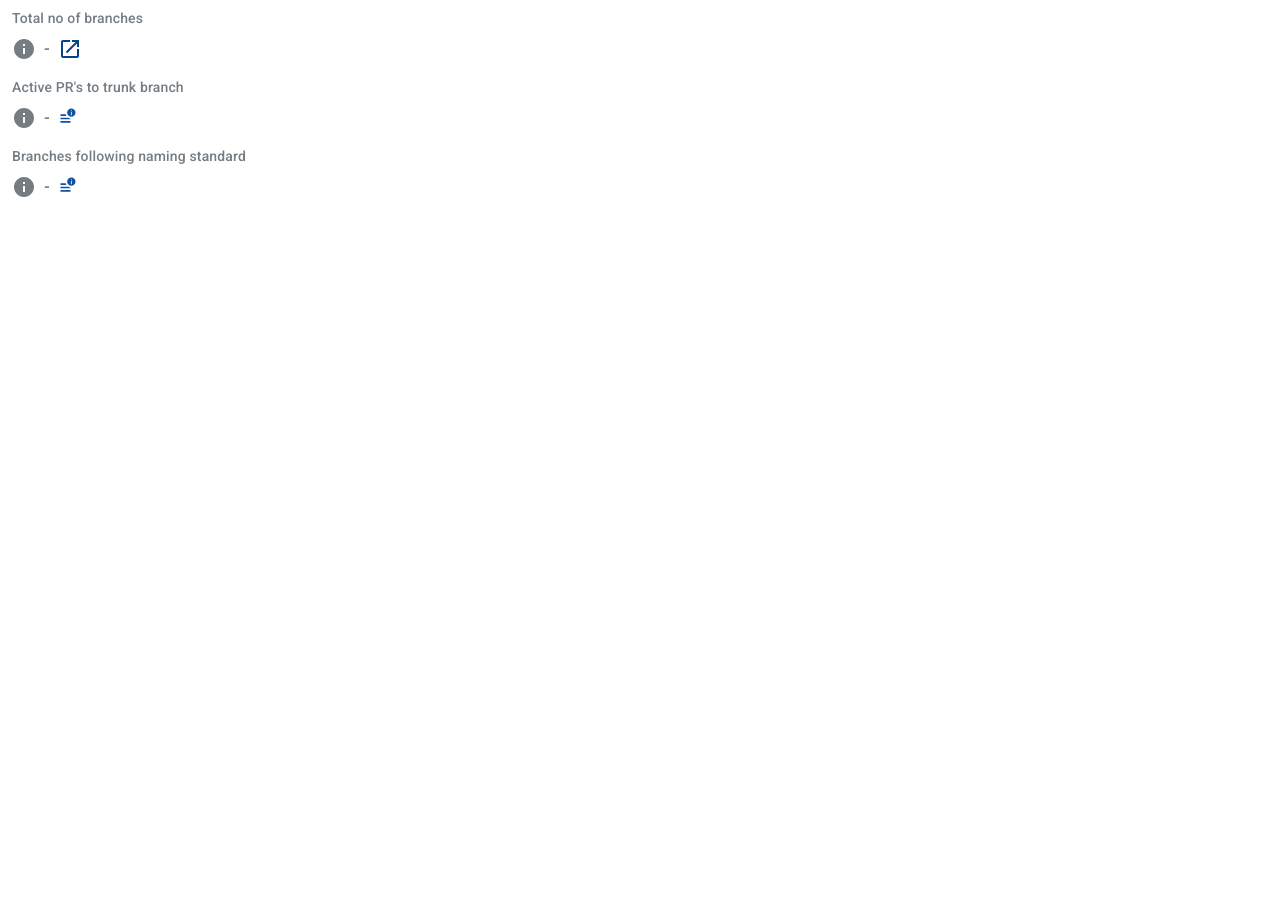
TrunkBasedMetricsTiles component › should open branches naming convention dialog
Expected: the text "total branches: 2" is not shown
# user clicks on the button to open the dialog
Click the picture with test id "branches-naming-convention-button" at (68, 185), box [58,175,78,195]
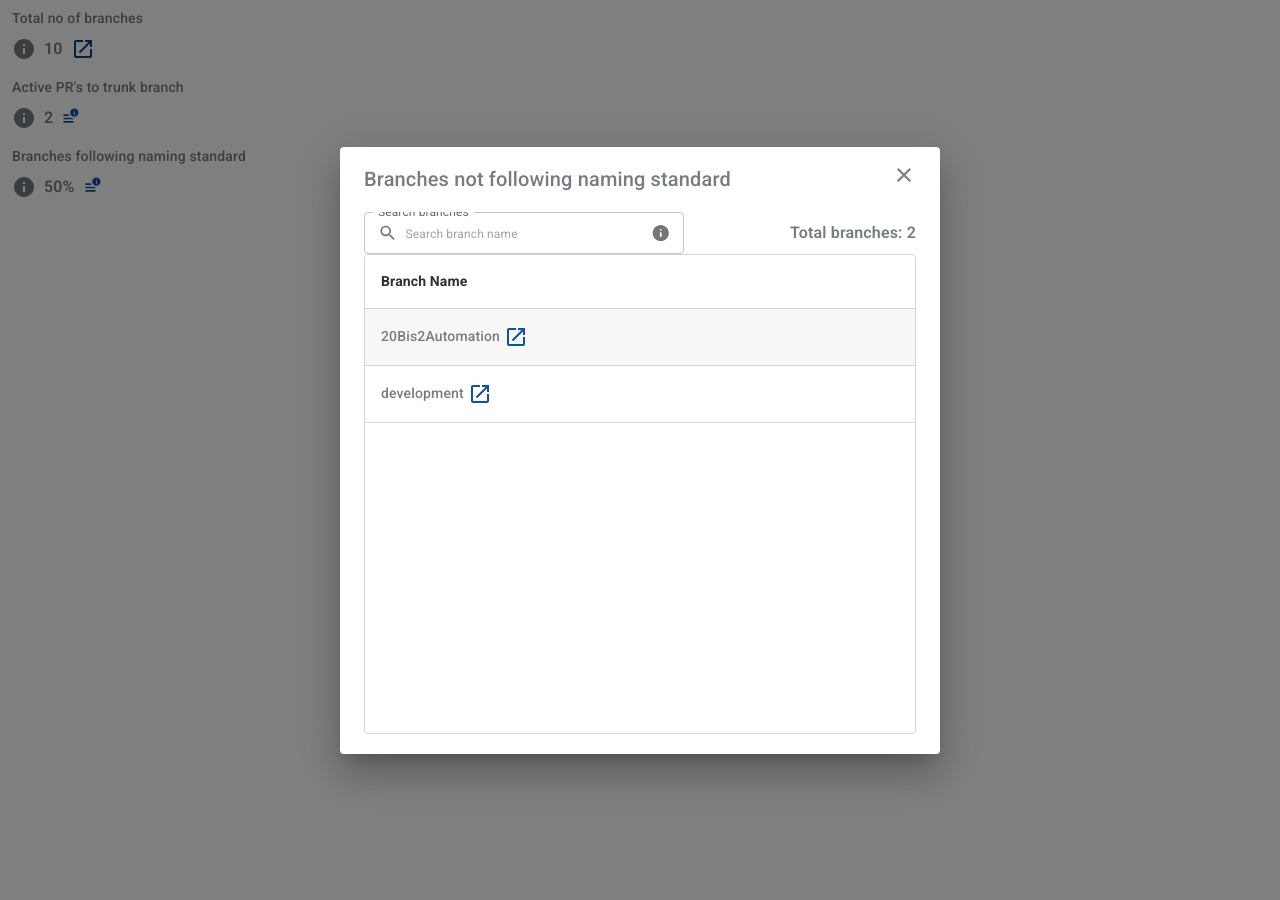
Result: the heading "Branches not following naming standard" is shown at [364,162,916,196]
Result: the text "Total branches: 2" is shown at [790,220,916,244]
